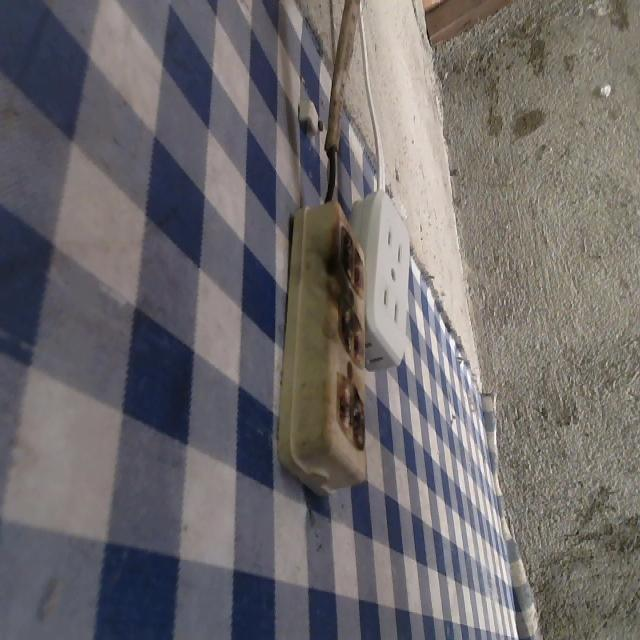-: (333, 369, 371, 452), (335, 304, 371, 369), (336, 224, 366, 297)
